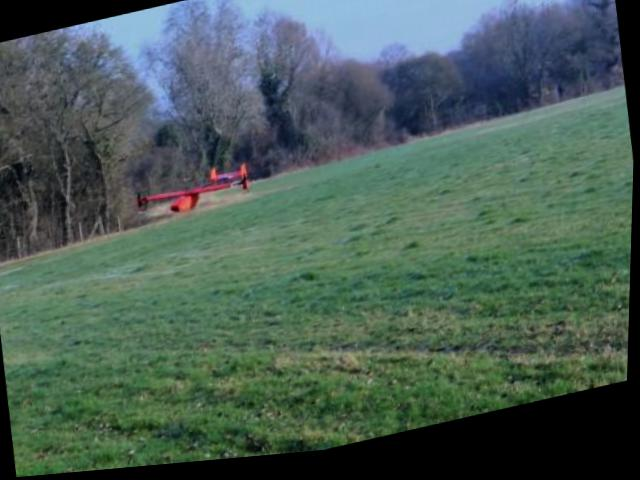uav: (143, 156, 255, 230)
